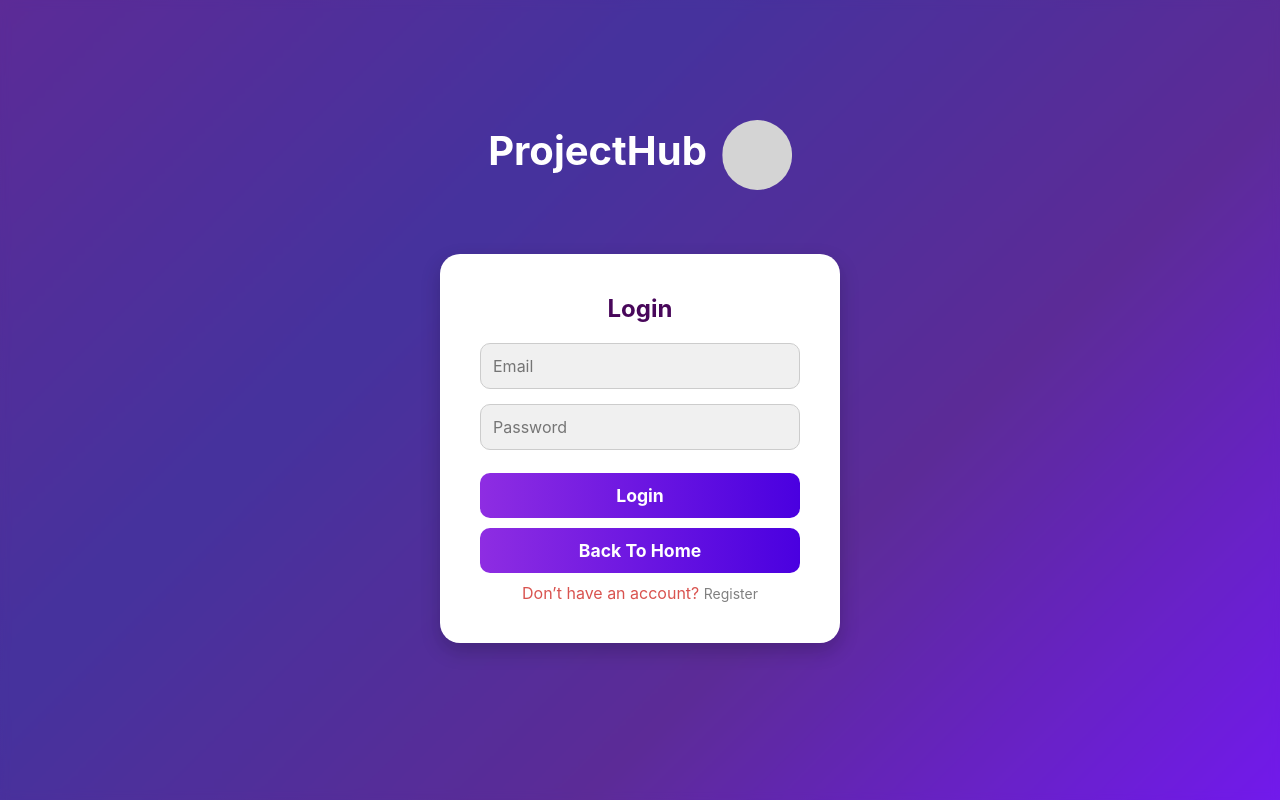
Test: Login Component › shows error on failed login
Step 1. Type "wrong@example.com" into the field with placeholder "Email" → (640, 366), box 480,342 -> 800,388
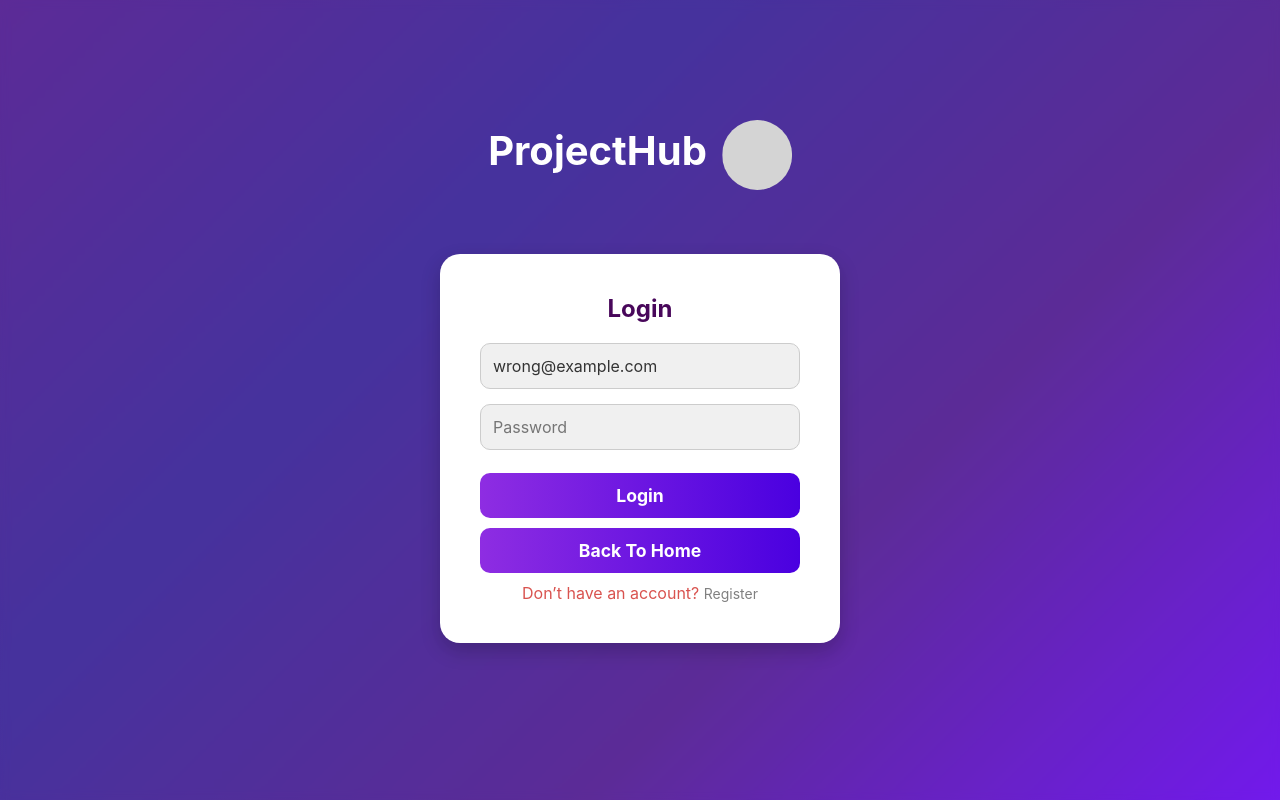
Step 2. Type "wrongpass" into the password field with placeholder "Password" → (640, 426), box 480,404 -> 800,450
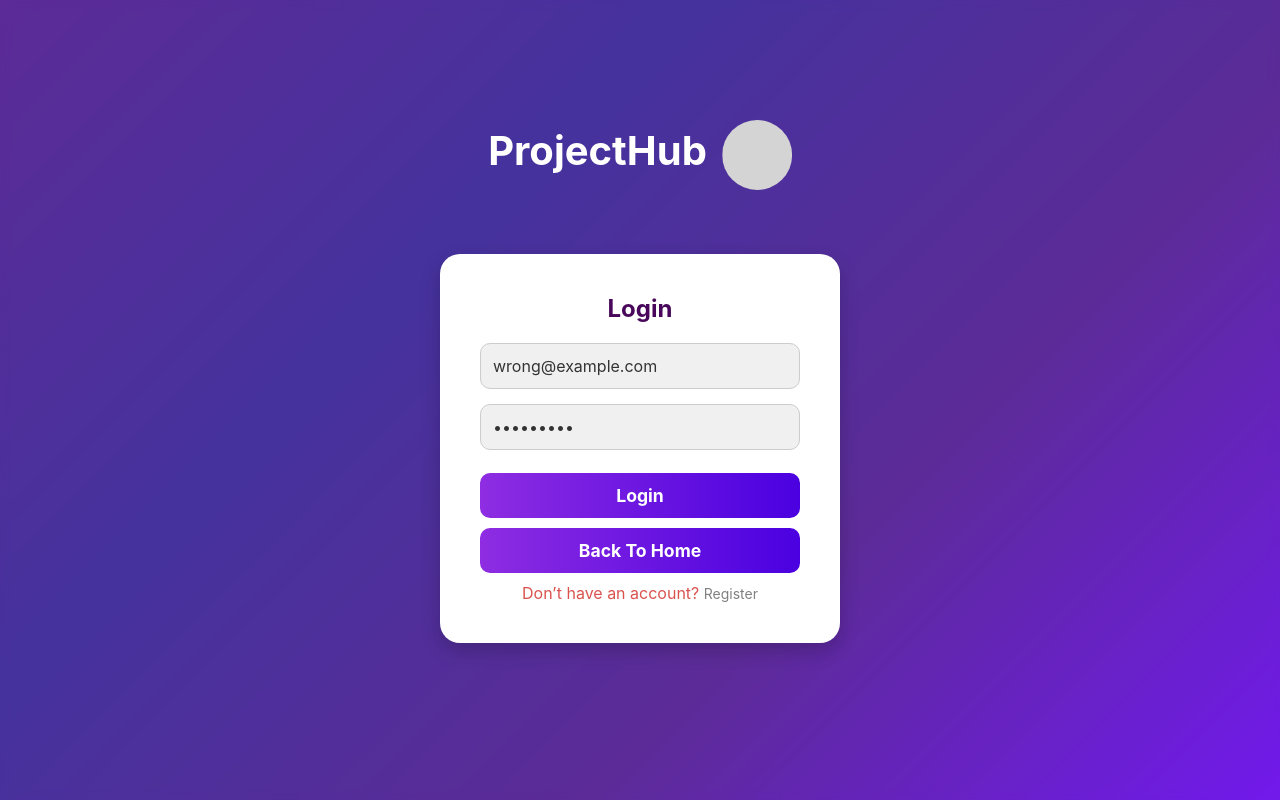
Step 3. Click the button "Login" → click(640, 495), box 480,472 -> 800,518
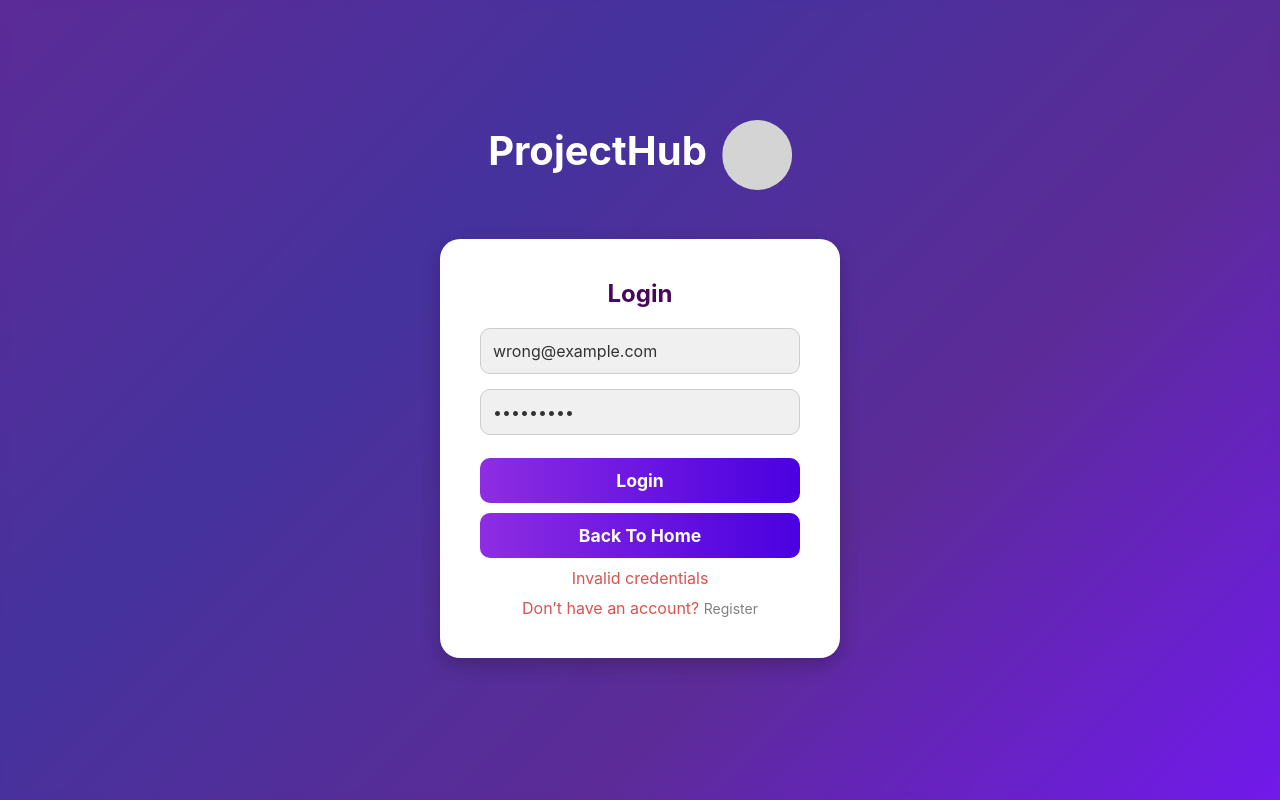
expect the text "Invalid credentials" is shown: met, box 572,568 -> 708,588
